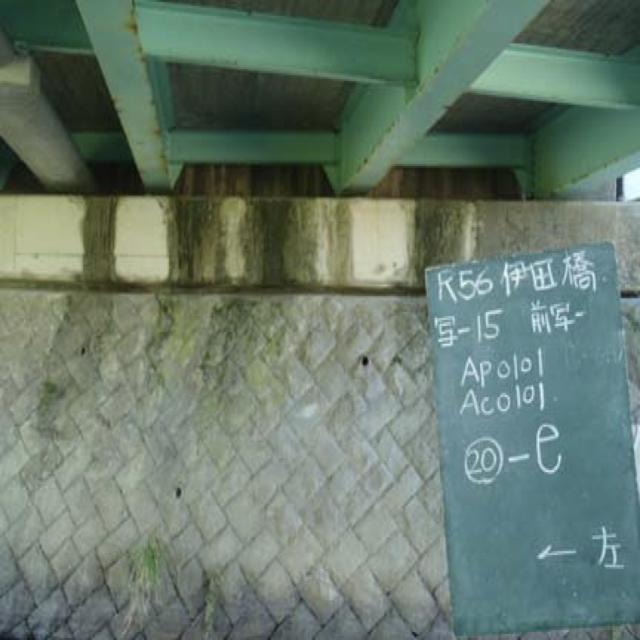leakage: (72, 177, 477, 293)
